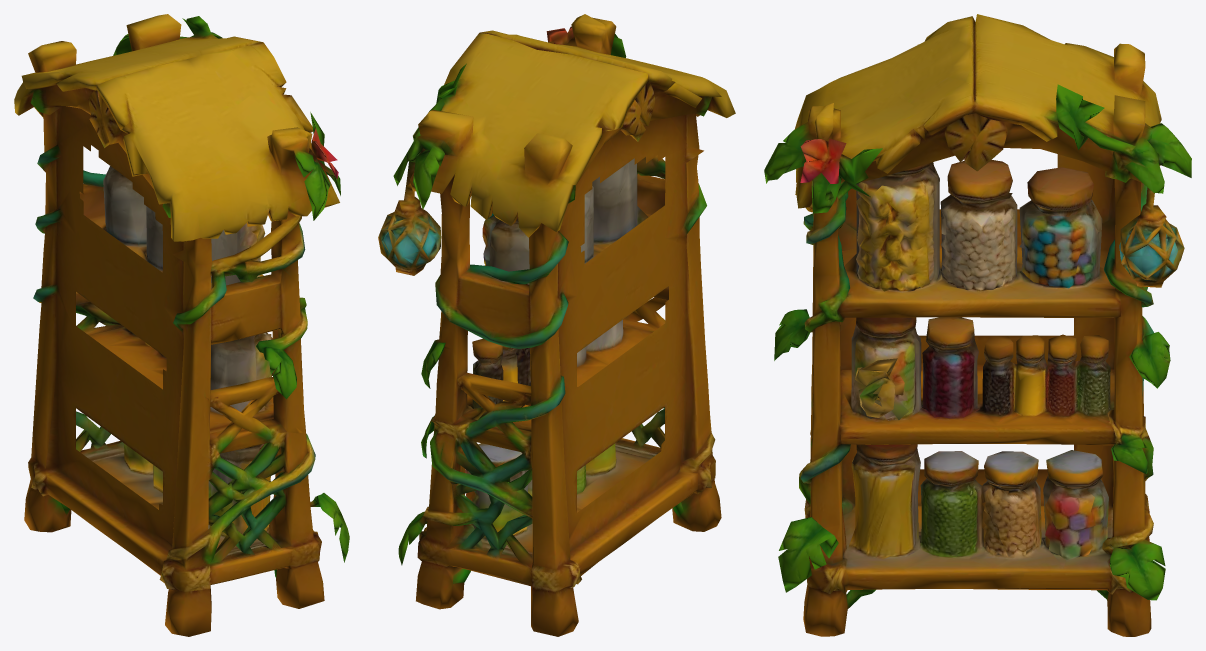
The model's file is SM_Kitchen_Pantry.glb.
3 renders of one model, left to right at view 1: azimuth 30°, elevation 25°; view 2: azimuth 150°, elevation 25°; view 3: azimuth 270°, elevation 25°, orthographic. The views are drawn at different scales.
Visible parts, largest first — view 1: tripo_node_4ad980a2-1586-4f24-8dc5-efa77aa21f33; view 2: tripo_node_4ad980a2-1586-4f24-8dc5-efa77aa21f33; view 3: tripo_node_4ad980a2-1586-4f24-8dc5-efa77aa21f33.
Boxes of the visible parts, box(x1,y1,x2,y2) form: tripo_node_4ad980a2-1586-4f24-8dc5-efa77aa21f33: box(14, 14, 349, 636); tripo_node_4ad980a2-1586-4f24-8dc5-efa77aa21f33: box(378, 14, 735, 636); tripo_node_4ad980a2-1586-4f24-8dc5-efa77aa21f33: box(764, 14, 1191, 636).
Size of the model in its own units: 0.386 by 1 by 0.71.
1 material, 1 textured.
